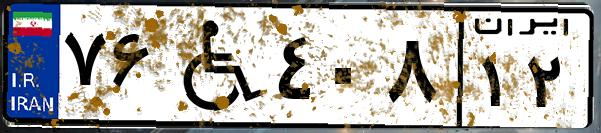0: (330, 28, 385, 110)
1: (475, 38, 525, 113)
2: (525, 38, 570, 115)
4: (270, 28, 330, 110)
6: (110, 28, 158, 98)
7: (57, 26, 110, 100)
8: (385, 28, 445, 110)
ژ (معلولین و جانبازان): (158, 12, 270, 120)
